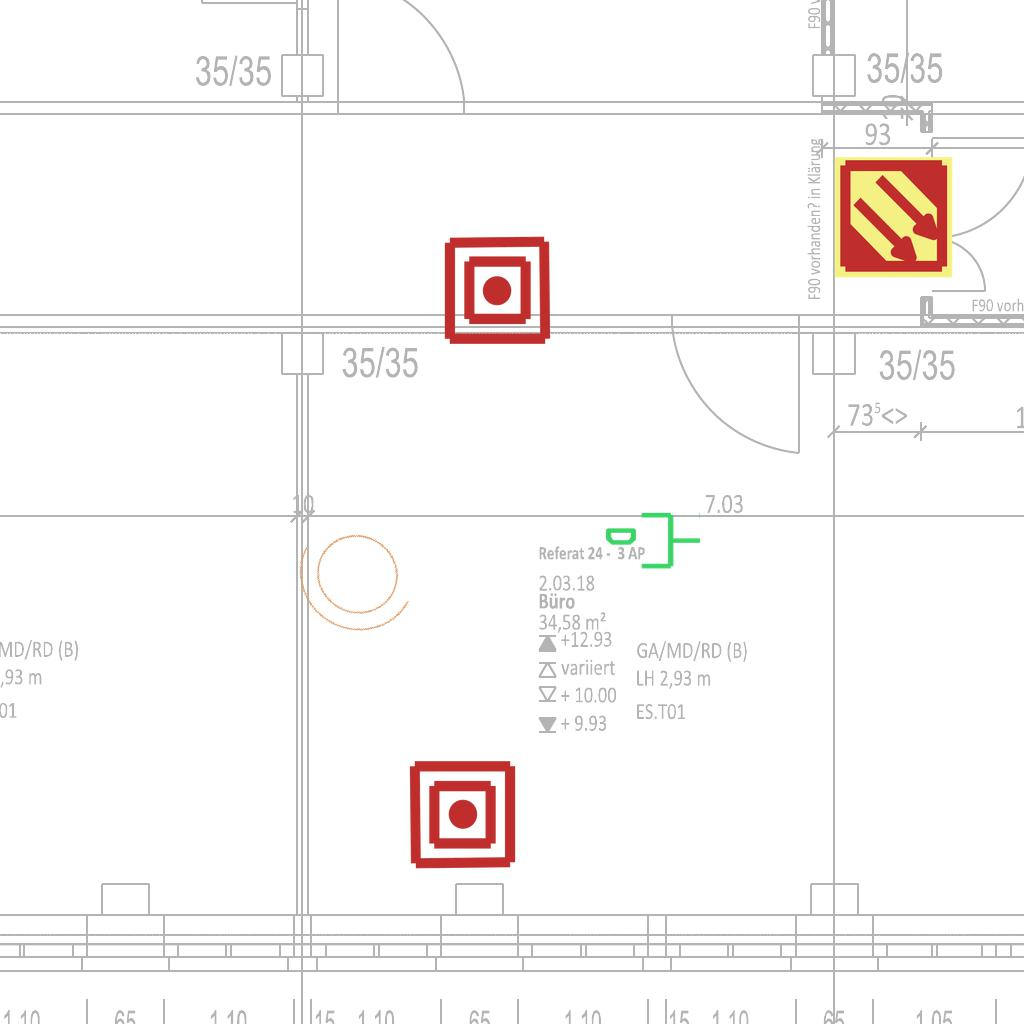ASR_Ansaugrauchmelder: (831, 155, 956, 280)
Datenanschluss_einfach: (603, 508, 703, 577)
NAM-Nichtautomatischer_Melder: (441, 234, 554, 347), (406, 758, 519, 871)
Scheinwerfer_fuer_Alarmbeleuchtung: (273, 499, 443, 661)
